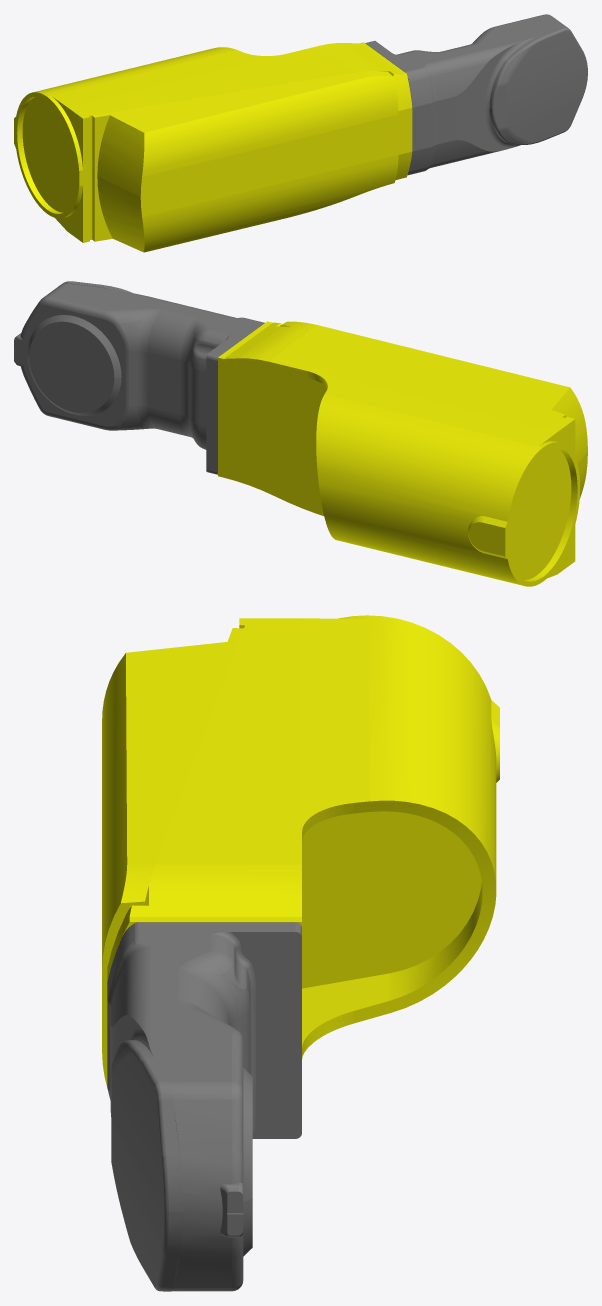
3 views of the same model, one above another, from view 1: azimuth 30°, elevation 25°; view 2: azimuth 150°, elevation 25°; view 3: azimuth 270°, elevation 25° (orthographic). The views are drawn at different scales.
Parts seen in each view (by area): view 1: Mesh_0; view 2: Mesh_0; view 3: Mesh_0.
Boxes of the visible parts, x1,y1,x2,y2 form: Mesh_0: (14,14,587,252); Mesh_0: (14,281,587,586); Mesh_0: (102,615,499,1291).
Bounding box in the file's own units: 0.4978 × 0.174 × 0.12.
